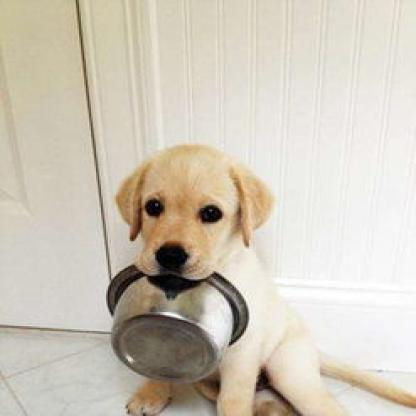Labarador Retriever: (113, 146, 339, 416)
